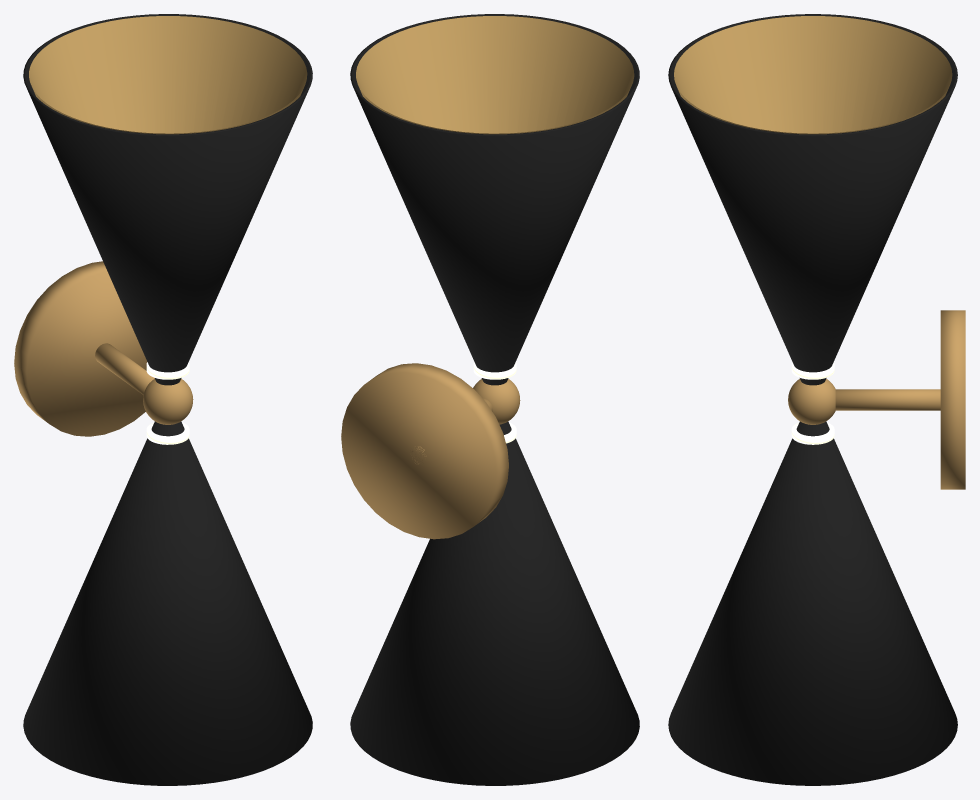
The picture shows the model from 3 angles, left to right: view 1: azimuth 30°, elevation 25°; view 2: azimuth 150°, elevation 25°; view 3: azimuth 270°, elevation 25°; orthographic projection.
Visible parts, largest first — view 1: void-cloud-g8; view 2: void-cloud-g8; view 3: void-cloud-g8.
Boxes of the visible parts, box(x1,y1,x2,y2) form: void-cloud-g8: box(14, 14, 312, 785); void-cloud-g8: box(341, 14, 639, 785); void-cloud-g8: box(668, 14, 965, 785).
Size of the model in its own units: 0.1614 by 0.4005 by 0.1657.
